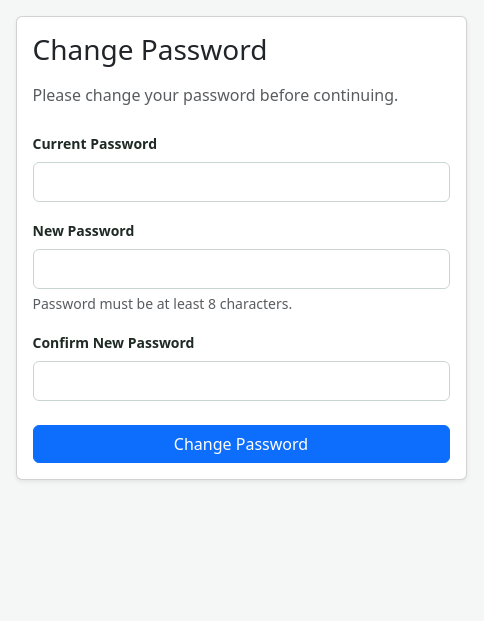
Test: Lab 3 - First Login Password Change › shows validation when required fields are empty
Click the button "Change Password" at (241, 444), box [32, 425, 450, 463]
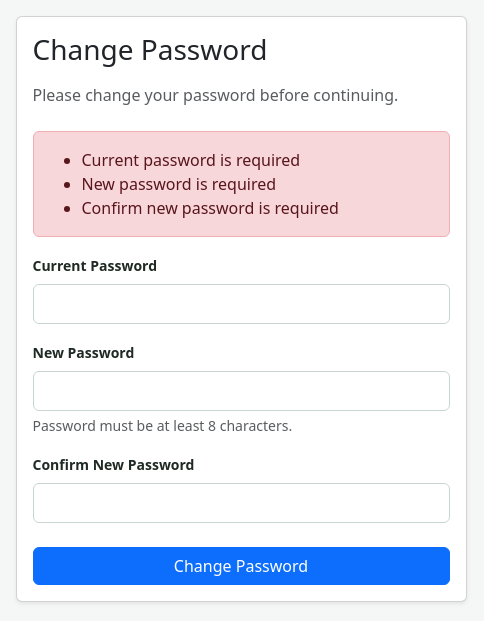
Expected: the list item "Current password is required" is shown, [82, 149, 300, 171]
Expected: the list item "New password is required" is shown, [82, 173, 276, 195]
Expected: the list item "Confirm new password is required" is shown, [82, 197, 339, 219]
